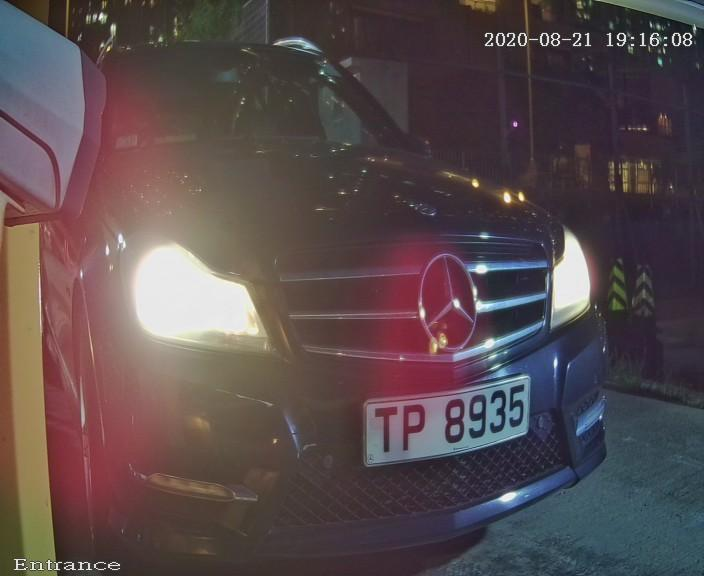License Plate: (337, 359, 549, 493)
